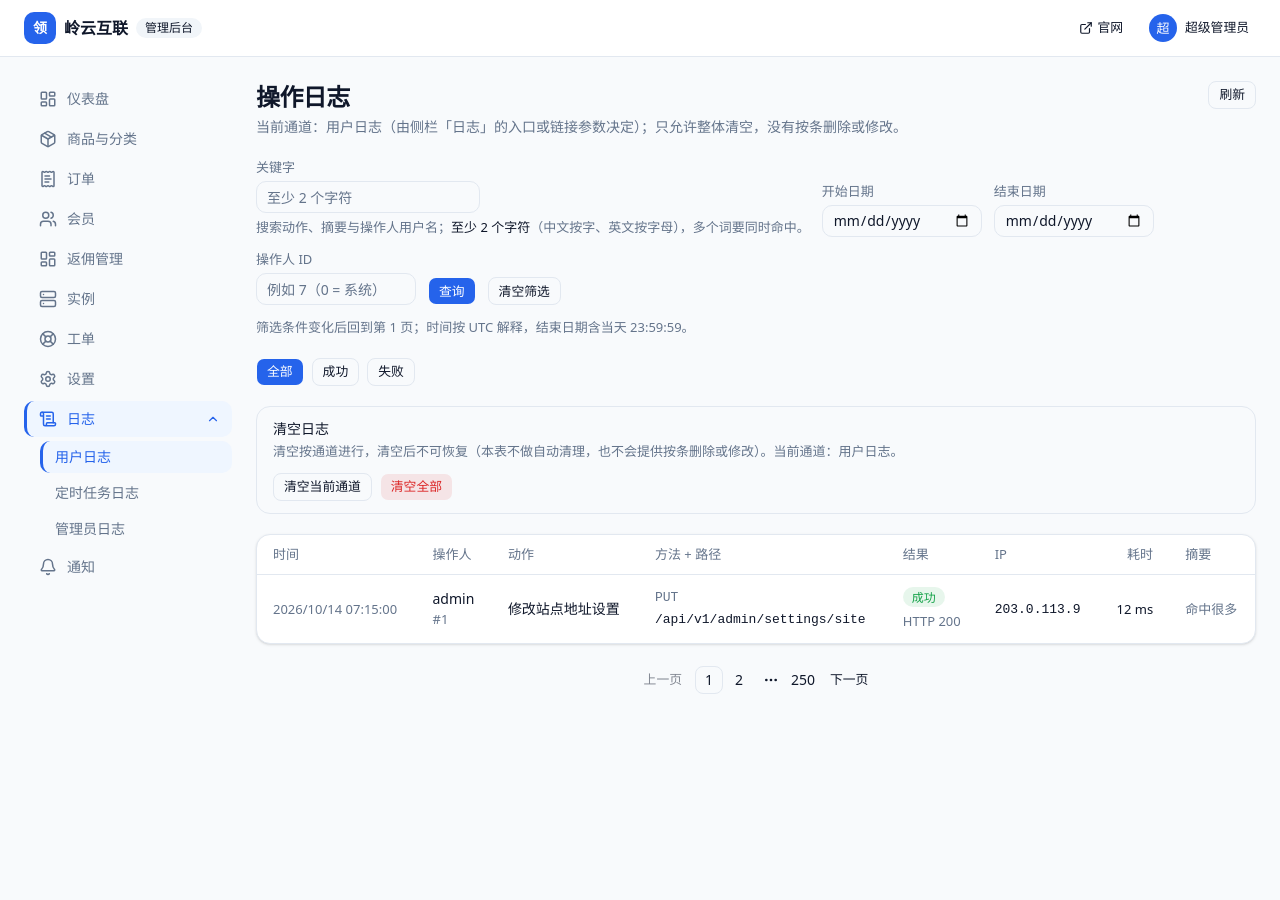
it: 管理后台 · 操作日志 › 命中较多时给出提示（建议加时间窗或通道过滤）
The image size is (1280, 900).
Expected: the heading "操作日志" is shown, [256,80,350,113]
Expected: the text "命中较多" is not shown
Type "会员" into the field labelled "关键字" at (368, 197), box [256,181,480,213]
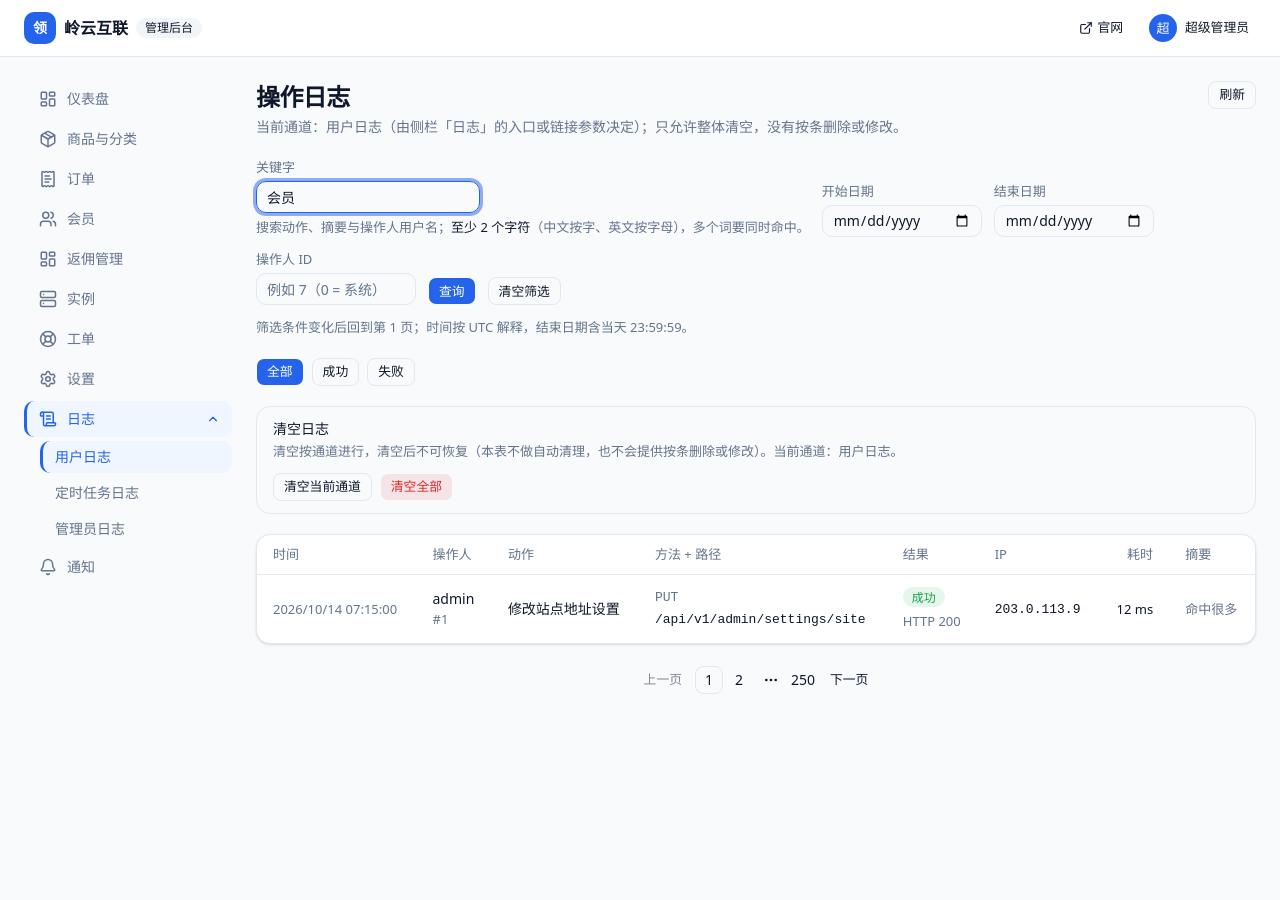
Click the button "查询" at (452, 291), box [428,277,476,305]
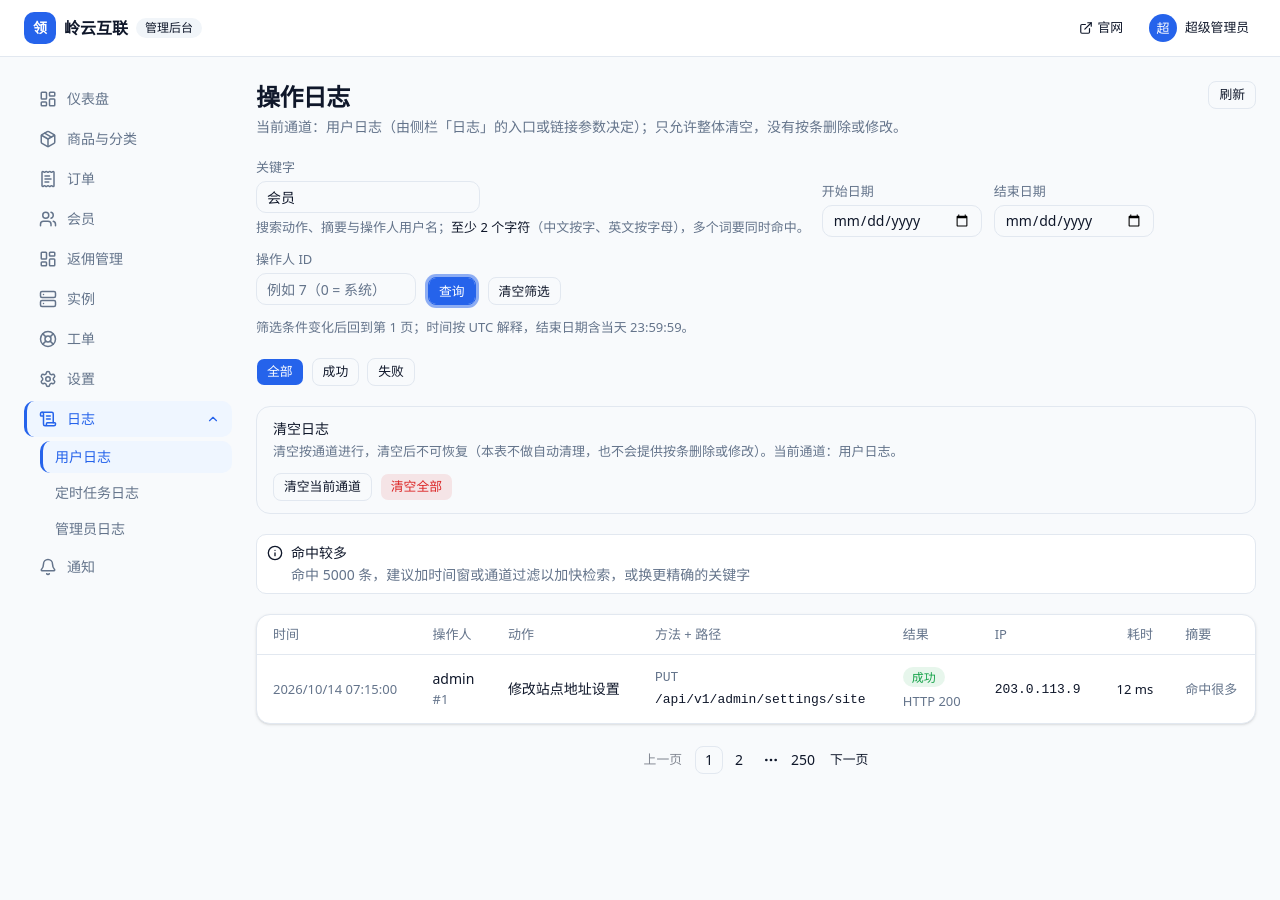
Expected: the text "命中较多" is shown, [291,543,347,562]
Expected: the text "命中 5000 条，建议加时间窗或通道过滤以加快检索，或换更精确的关键字" is shown, [291,565,750,584]
